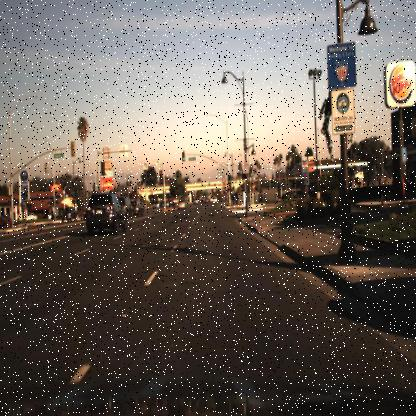car: (84, 189, 129, 235), (119, 196, 135, 220), (60, 206, 80, 225), (177, 195, 188, 210), (151, 198, 162, 210)
trafficLight-Green: (226, 170, 234, 188), (180, 146, 186, 164), (228, 174, 233, 186)
trafficLight-Red: (158, 166, 163, 184)
